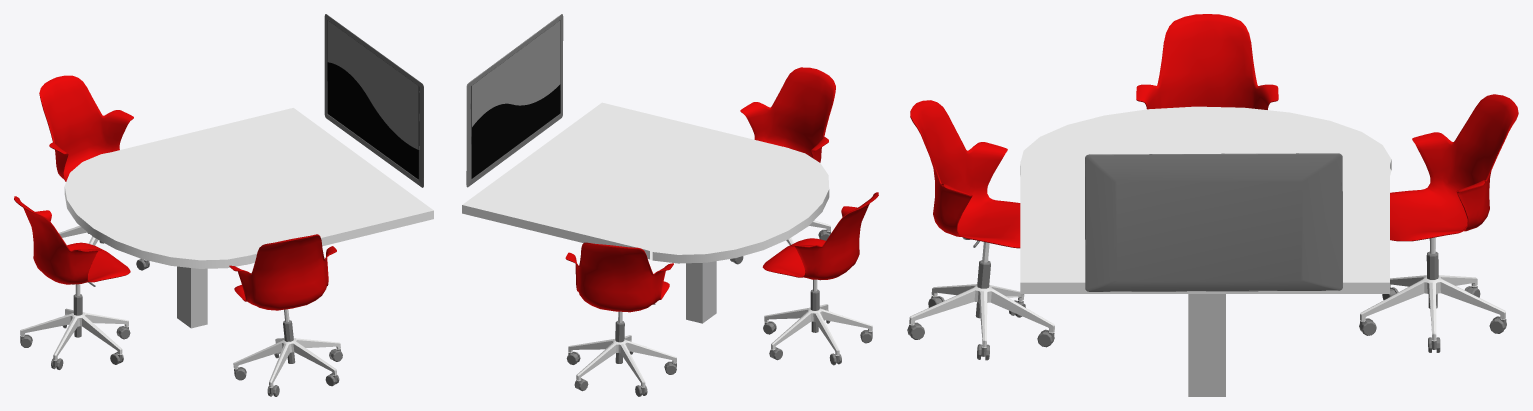
3 renders of one model, left to right at view 1: azimuth 30°, elevation 25°; view 2: azimuth 150°, elevation 25°; view 3: azimuth 270°, elevation 25°, orthographic. The views are drawn at different scales.
Parts seen in each view (by area): view 1: Mesh1_FrontColor_0, Mesh2_Color_A06_0, Mesh3_Color_A06_0, Mesh8_Color_006_0, Mesh4_Color_A06_0, Mesh8_Color_009_0, Mesh7_PAINT_SMOOTH2_0, G_43411N_3D_2_3, G_43411N_3D_2_2, Mesh6_Color_003_0, Mesh4_Color_007_0, Mesh3_Color_007_0 (+1 smaller); view 2: Mesh1_FrontColor_0, Mesh3_Color_A06_0, Mesh2_Color_A06_0, Mesh8_Color_006_0, Mesh4_Color_A06_0, Mesh8_Color_009_0, Mesh7_PAINT_SMOOTH2_0, G_43411N_3D_2_3, G_43411N_3D_2_1, Mesh6_Color_003_0, Mesh6_SCS_Platinum_0, Mesh2_Color_007_0 (+1 smaller); view 3: Mesh7_PAINT_SMOOTH2_0, Mesh1_FrontColor_0, Mesh2_Color_A06_0, Mesh4_Color_A06_0, Mesh3_Color_A06_0, Mesh5_Color_003_0, G_43411N_3D_2_2, G_43411N_3D_2_1, Mesh3_Color_007_0, Mesh2_Color_007_0.
Part boxes in pixels (x1=…): Mesh1_FrontColor_0: x1=64, y1=108, x2=433, y2=268; Mesh2_Color_A06_0: x1=39, y1=75, x2=133, y2=181; Mesh3_Color_A06_0: x1=229, y1=234, x2=336, y2=310; Mesh8_Color_006_0: x1=327, y1=20, x2=418, y2=149; Mesh4_Color_A06_0: x1=14, y1=196, x2=130, y2=284; Mesh8_Color_009_0: x1=327, y1=62, x2=418, y2=178; Mesh7_PAINT_SMOOTH2_0: x1=324, y1=14, x2=423, y2=187; G_43411N_3D_2_3: x1=20, y1=284, x2=128, y2=360; G_43411N_3D_2_2: x1=233, y1=309, x2=340, y2=387; Mesh6_Color_003_0: x1=191, y1=268, x2=207, y2=328; Mesh4_Color_007_0: x1=20, y1=282, x2=130, y2=369; Mesh3_Color_007_0: x1=234, y1=320, x2=342, y2=396; Mesh1_FrontColor_0: x1=462, y1=102, x2=829, y2=263; Mesh3_Color_A06_0: x1=740, y1=67, x2=835, y2=162; Mesh2_Color_A06_0: x1=565, y1=242, x2=673, y2=312; Mesh8_Color_006_0: x1=472, y1=20, x2=560, y2=126; Mesh4_Color_A06_0: x1=762, y1=192, x2=878, y2=279; Mesh8_Color_009_0: x1=472, y1=84, x2=560, y2=178; Mesh7_PAINT_SMOOTH2_0: x1=466, y1=14, x2=563, y2=187; G_43411N_3D_2_3: x1=764, y1=279, x2=872, y2=355; G_43411N_3D_2_1: x1=568, y1=311, x2=676, y2=387; Mesh6_Color_003_0: x1=686, y1=263, x2=702, y2=323; Mesh6_SCS_Platinum_0: x1=702, y1=261, x2=716, y2=323; Mesh2_Color_007_0: x1=566, y1=303, x2=676, y2=396; Mesh7_PAINT_SMOOTH2_0: x1=1085, y1=153, x2=1342, y2=291; Mesh1_FrontColor_0: x1=1020, y1=106, x2=1391, y2=293; Mesh2_Color_A06_0: x1=1390, y1=94, x2=1518, y2=241; Mesh4_Color_A06_0: x1=1136, y1=14, x2=1278, y2=109; Mesh3_Color_A06_0: x1=910, y1=100, x2=1020, y2=248; Mesh5_Color_003_0: x1=1188, y1=294, x2=1225, y2=396; G_43411N_3D_2_2: x1=909, y1=242, x2=1054, y2=347; G_43411N_3D_2_1: x1=1360, y1=237, x2=1505, y2=341; Mesh3_Color_007_0: x1=907, y1=237, x2=1054, y2=360; Mesh2_Color_007_0: x1=1359, y1=251, x2=1506, y2=352.
Bounding box in the file's own units: 87.88 × 52.31 × 97.53.
